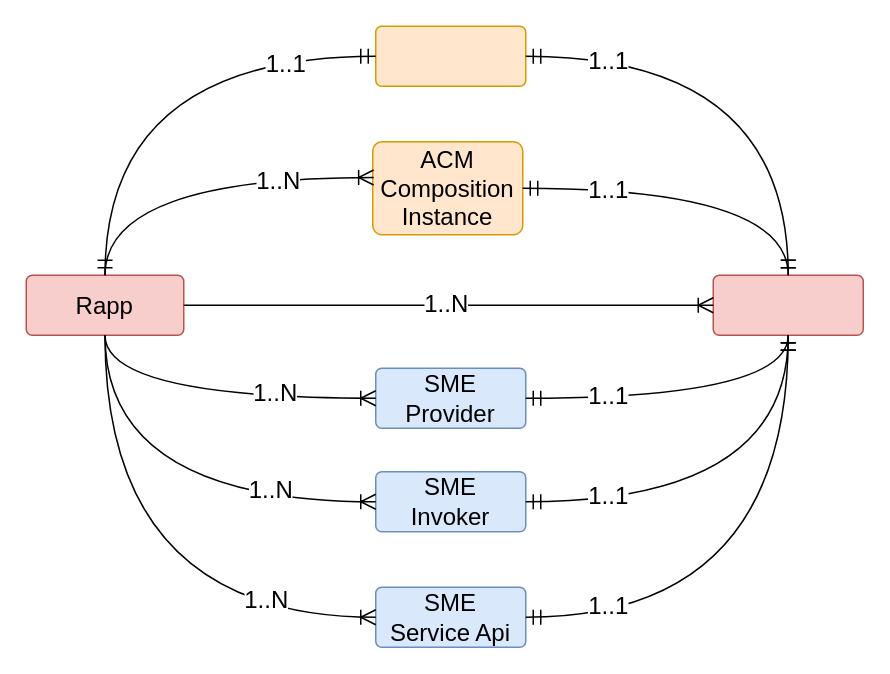
This 890x674 diagram has some shape labels left out. The centre of each missing label's shape, as x and y in pixels:
"ACM Composition" belongs at (450,55).
"Rapp Instance" belongs at (787,304).
